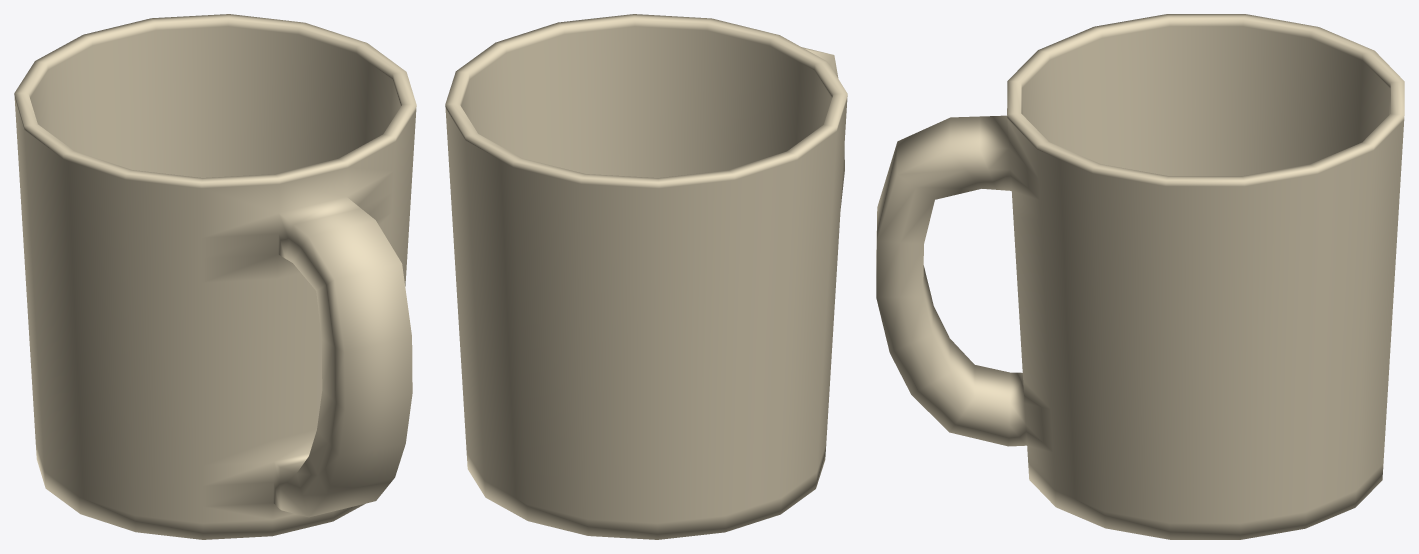
Rendered from Cup.fbx.
The picture shows the model from 3 angles, left to right: view 1: azimuth 30°, elevation 25°; view 2: azimuth 150°, elevation 25°; view 3: azimuth 270°, elevation 25°; orthographic projection.
Parts seen in each view (by area): view 1: Cylinder; view 2: Cylinder; view 3: Cylinder.
Part boxes in pixels (left/top/right/bottom): Cylinder: left=14, top=14, right=416, bottom=539; Cylinder: left=445, top=14, right=847, bottom=539; Cylinder: left=876, top=14, right=1404, bottom=539.
Size of the model in its own units: 19.63 by 20 by 26.09.
